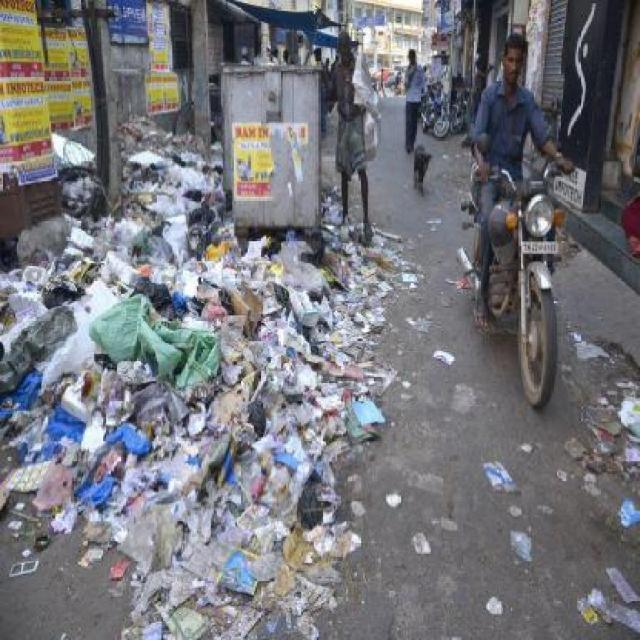garbage: (97, 326, 387, 638), (53, 119, 219, 323), (0, 238, 89, 574), (226, 211, 402, 346), (582, 371, 640, 637), (477, 448, 554, 581), (432, 346, 478, 389), (413, 528, 440, 574)
